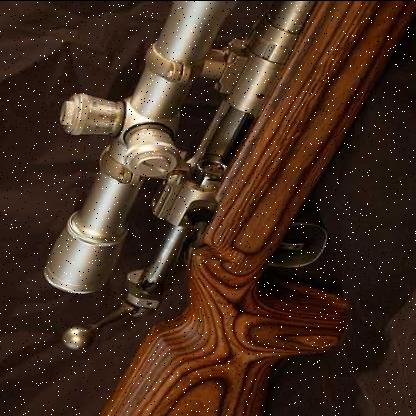rifle: (27, 1, 365, 416)
